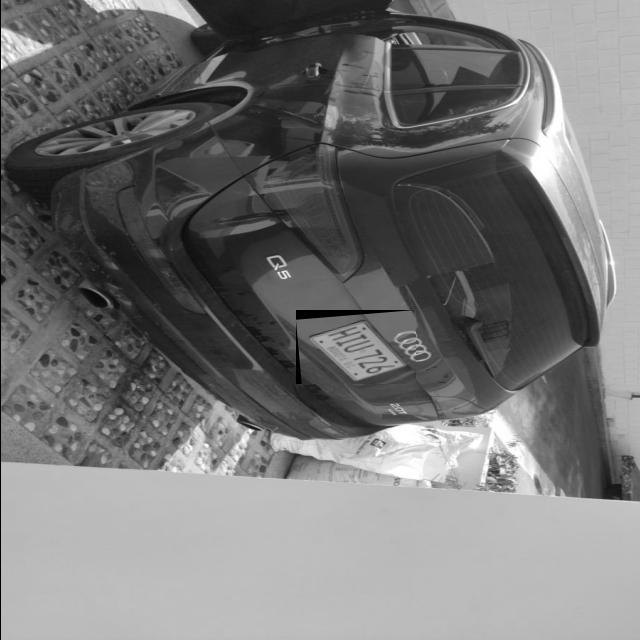plate: (296, 314, 415, 384)
